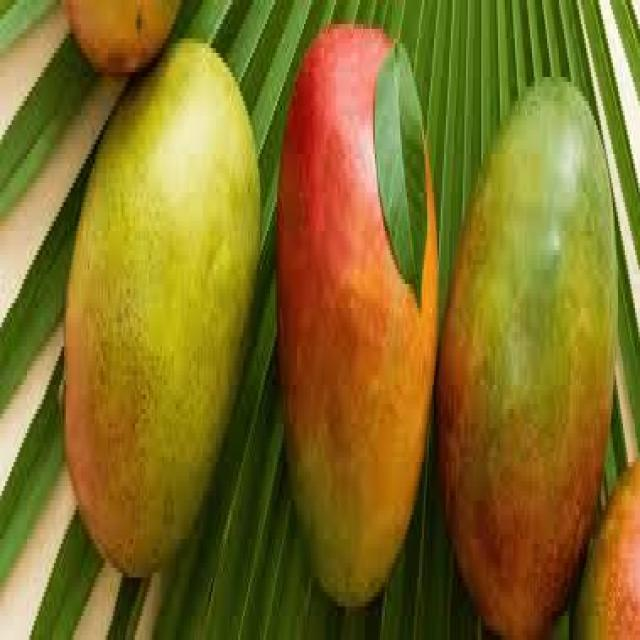Mango: (62, 34, 260, 578), (434, 72, 618, 635), (276, 19, 438, 606), (575, 451, 640, 640), (58, 0, 178, 79)
